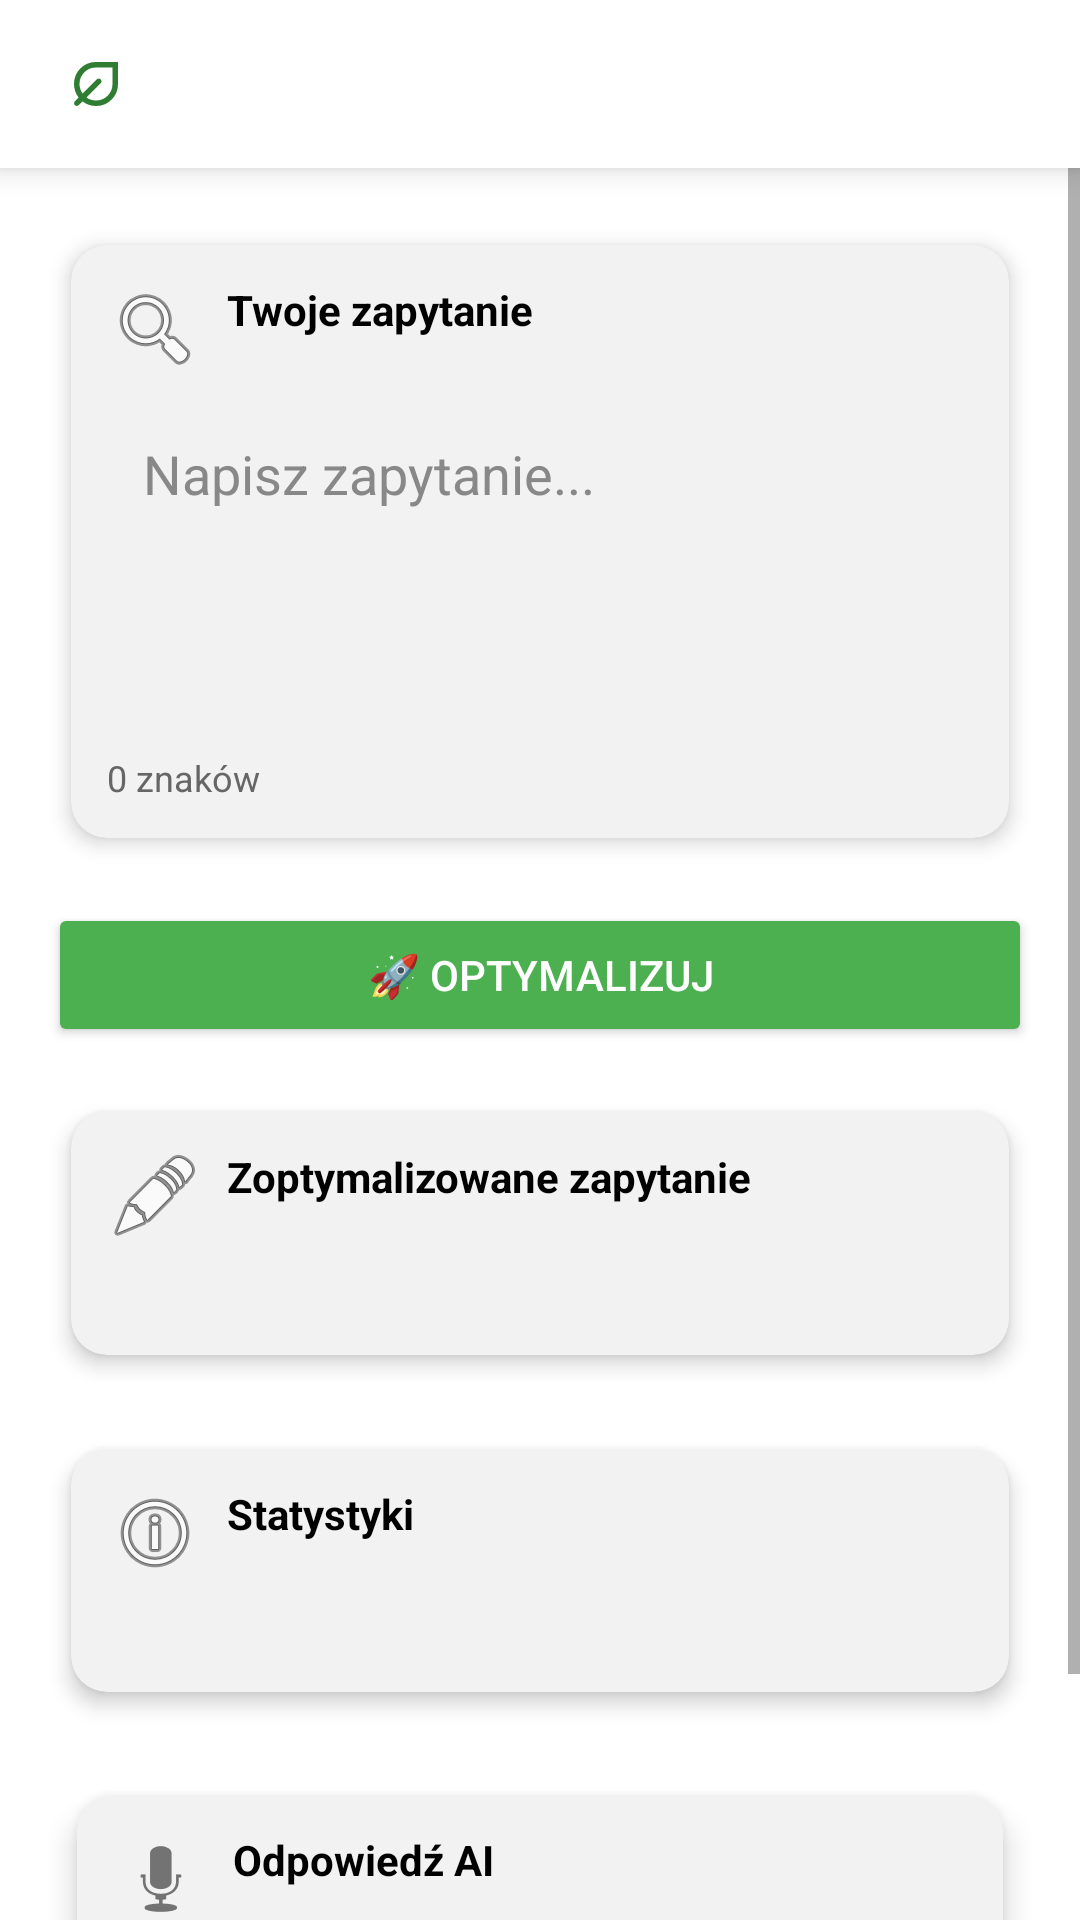

Icons on this 1080*1920 Android screen, each with the point to tap as (x=x, y=y):
plant: (x=96, y=84)
